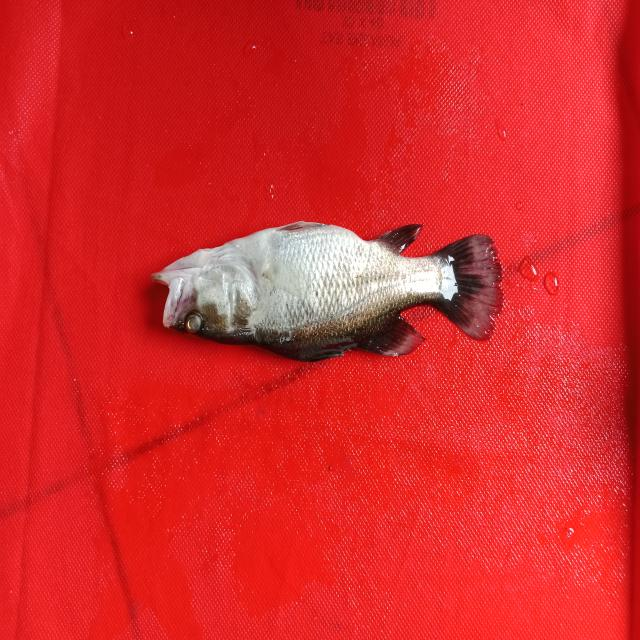ikan: (138, 205, 539, 383)
